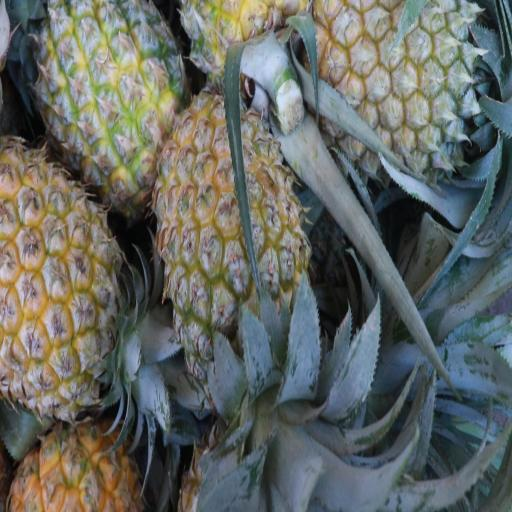------------------------------: (157, 99, 297, 361)
Pineapple - v8 v1: (0, 159, 141, 412), (33, 0, 176, 195)
